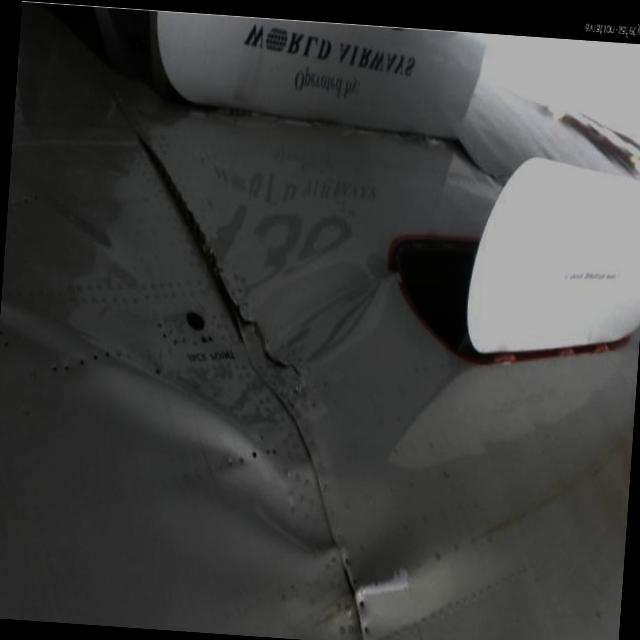crack: (222, 302, 308, 383)
